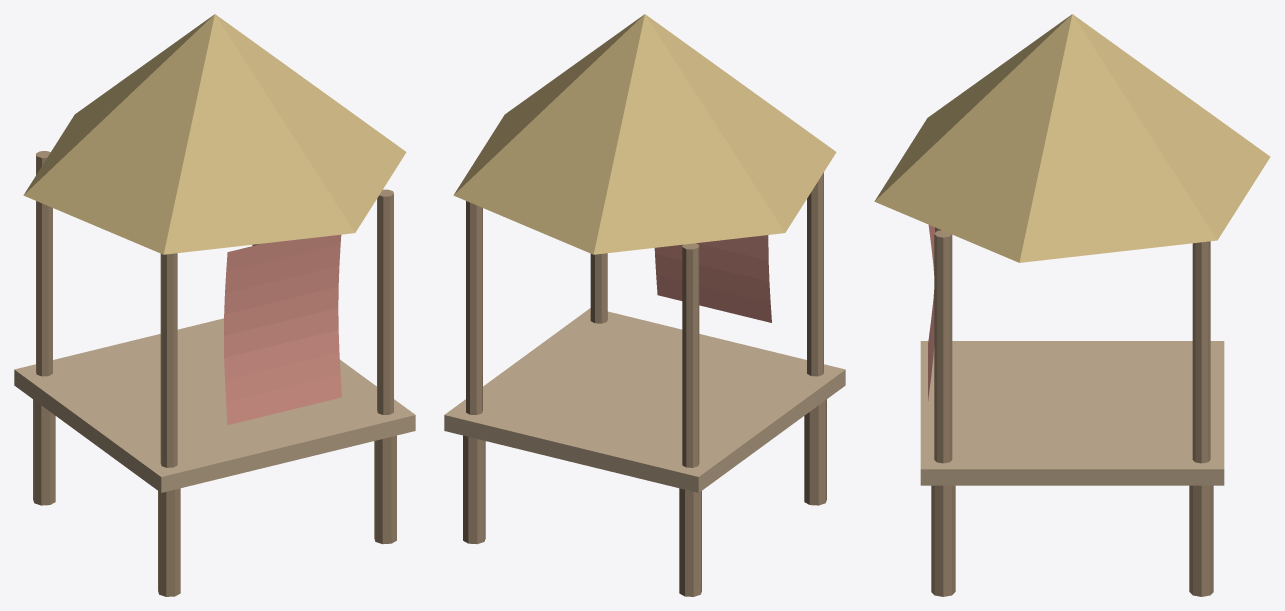
Rendered from beach-hut.glb.
The picture shows the model from 3 angles, left to right: view 1: azimuth 30°, elevation 25°; view 2: azimuth 150°, elevation 25°; view 3: azimuth 270°, elevation 25°; orthographic projection. The views are drawn at different scales.
Visible parts, largest first — view 1: Roof, Platform, Curtain, Post_0, Post_1, Post_2, Stilt_0, Stilt_1, Stilt_2; view 2: Roof, Platform, Curtain, Post_2, Post_3, Post_0, Stilt_2, Stilt_3, Stilt_0, Post_1; view 3: Roof, Platform, Post_1, Post_3, Stilt_1, Stilt_3, Curtain.
Part boxes in pixels (x1,y1,x2,y2): Roof: [23, 14, 406, 254]; Platform: [14, 318, 415, 492]; Curtain: [224, 234, 341, 424]; Post_0: [160, 253, 177, 467]; Post_1: [377, 189, 393, 414]; Post_2: [36, 151, 52, 376]; Stilt_0: [158, 488, 180, 596]; Stilt_1: [374, 435, 396, 544]; Stilt_2: [33, 399, 55, 505]; Roof: [453, 14, 836, 254]; Platform: [444, 308, 845, 492]; Curtain: [654, 235, 771, 322]; Post_2: [682, 243, 699, 467]; Post_3: [466, 201, 482, 414]; Post_0: [807, 172, 823, 376]; Stilt_2: [679, 488, 701, 596]; Stilt_3: [463, 435, 485, 544]; Stilt_0: [804, 399, 826, 505]; Post_1: [590, 253, 607, 323]; Roof: [874, 14, 1270, 262]; Platform: [920, 341, 1224, 485]; Post_1: [934, 230, 952, 463]; Post_3: [1192, 241, 1210, 463]; Stilt_1: [931, 485, 955, 596]; Stilt_3: [1189, 485, 1213, 596]; Curtain: [928, 225, 935, 400].
Size of the model in its own units: 2.61 by 3.8 by 2.61.
